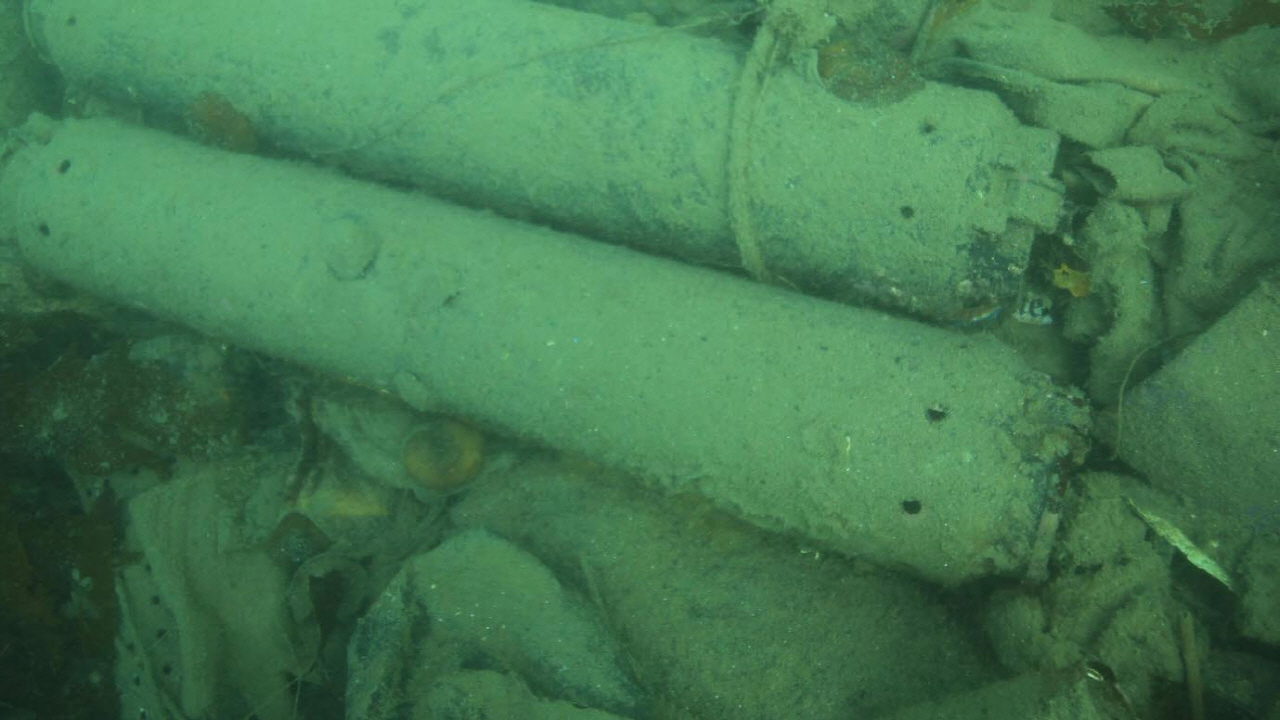eel fish trap: (0, 112, 1079, 588), (25, 0, 1066, 335)
rope: (718, 0, 799, 284)
